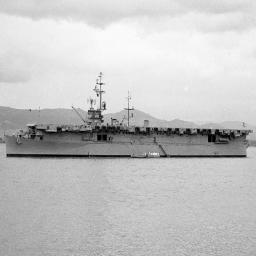Portanaves: (2, 67, 253, 160)
